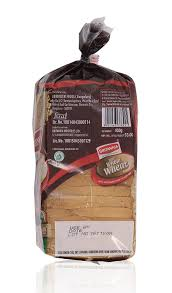bread: (23, 14, 131, 268)
